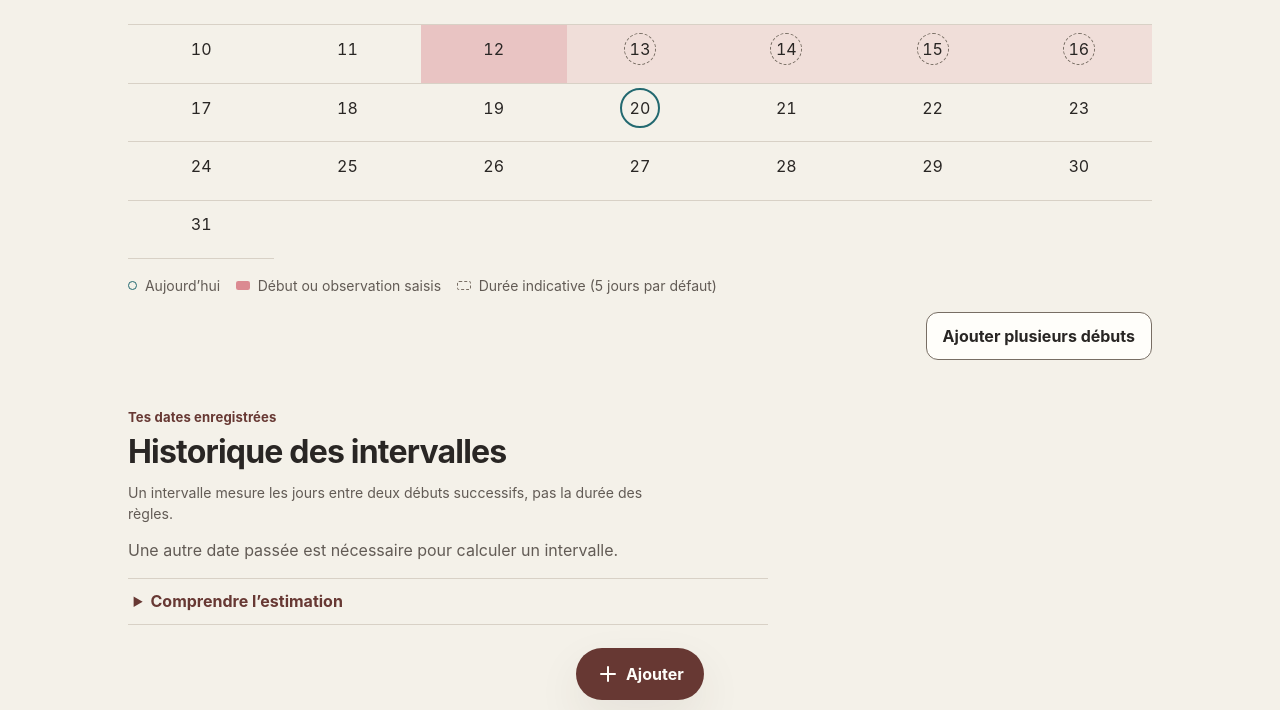
Test case: PeriodPeriods app › selects several distinct calendar dates and saves them as one batch
(page scrolled)
Click the button "Ajouter plusieurs débuts" at coordinates (1039, 336), box top-left (926, 312), bottom-right (1152, 360)
(page scrolled)
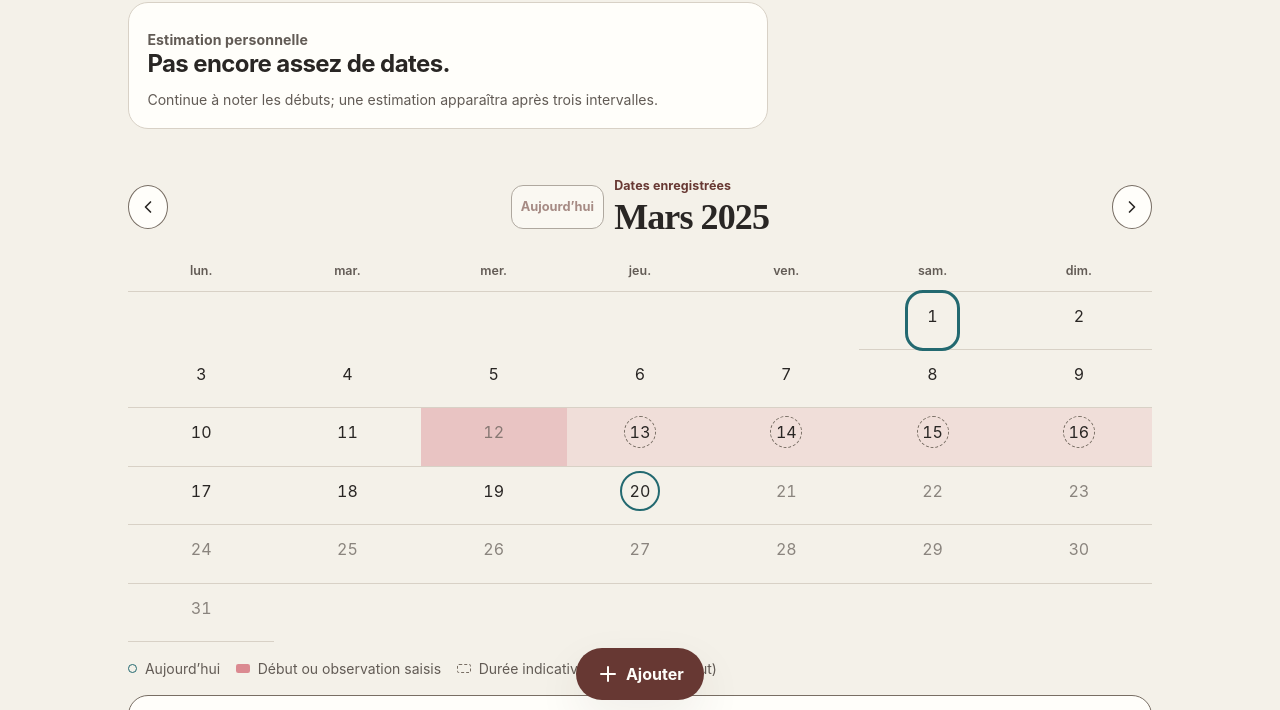
Check: the button named "21 mars 2025, date future, non sélectionnable" is disabled, box top-left (765, 471), bottom-right (808, 520)
Check: the button named "12 mars 2025, début déjà enregistré" is disabled, box top-left (472, 412), bottom-right (515, 462)
Click the button named "13 mars 2025" at coordinates (640, 437), box top-left (618, 412), bottom-right (662, 462)
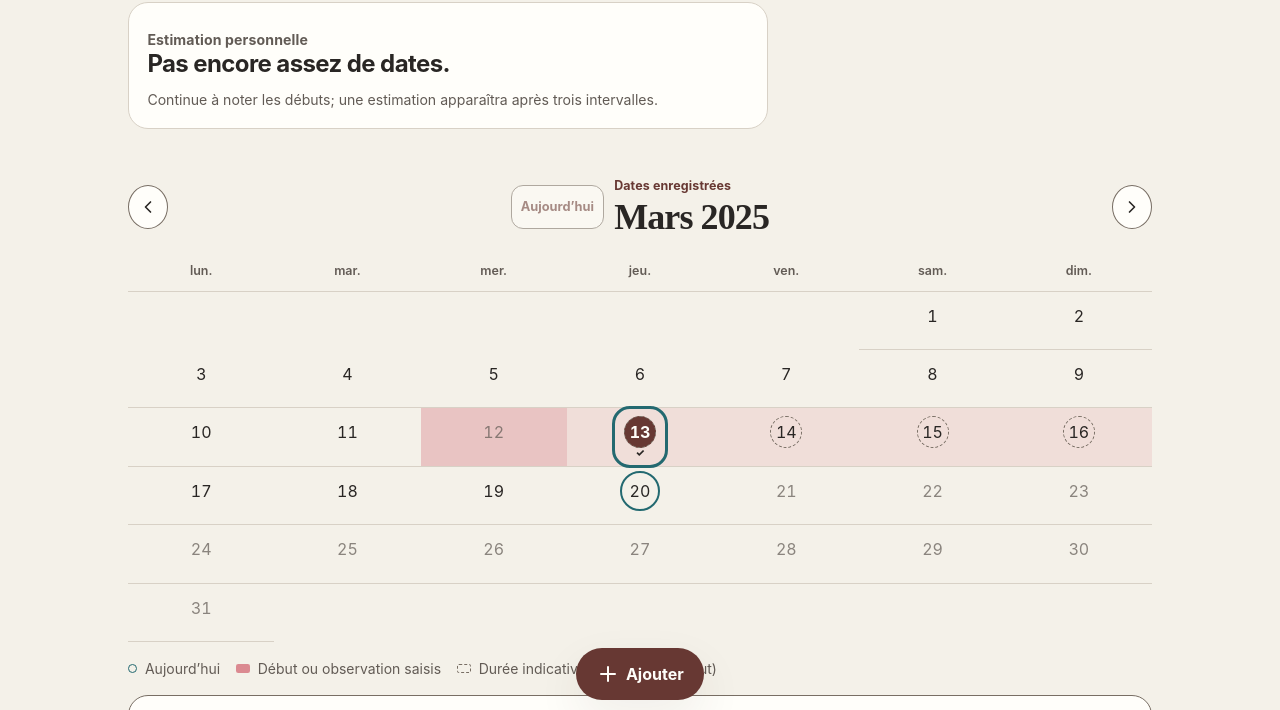
Click the button named "16 mars 2025" at coordinates (1079, 437), box top-left (1057, 412), bottom-right (1100, 462)
(page scrolled)
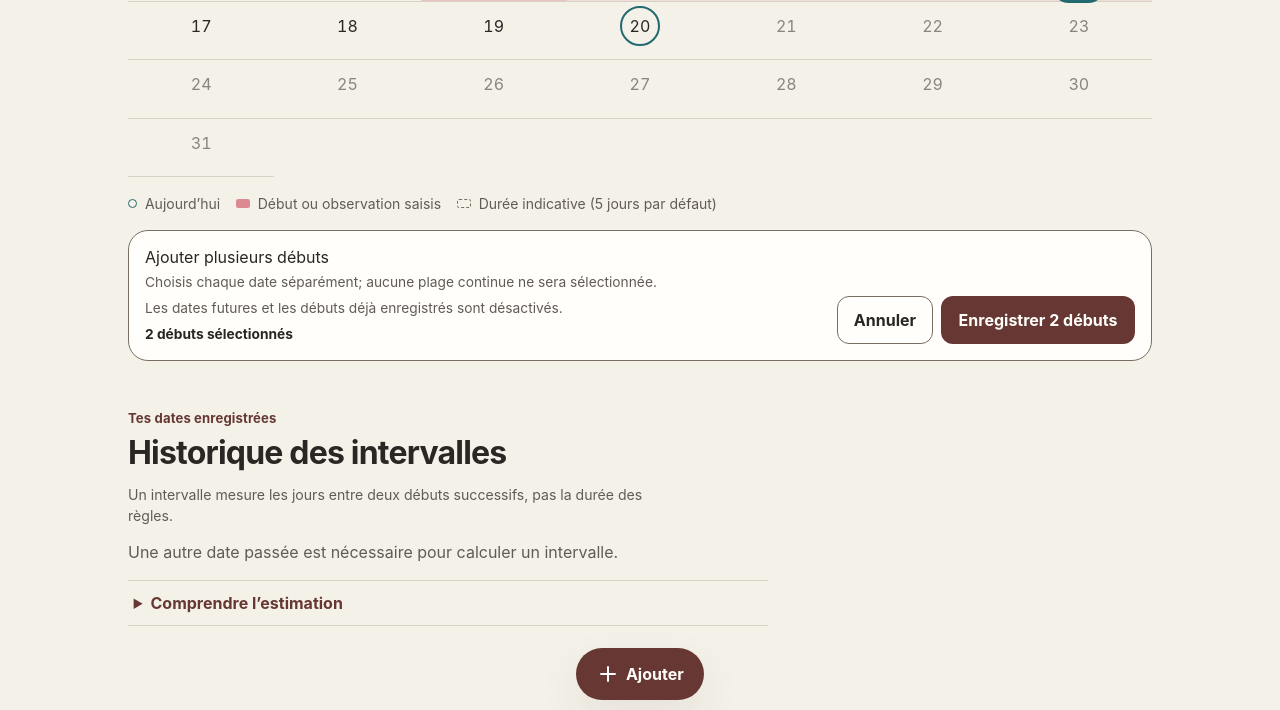
Check: the button "Enregistrer 2 débuts" is enabled
Click the button "Enregistrer 2 débuts" at coordinates (1038, 320), box top-left (941, 296), bottom-right (1135, 344)
(page scrolled)
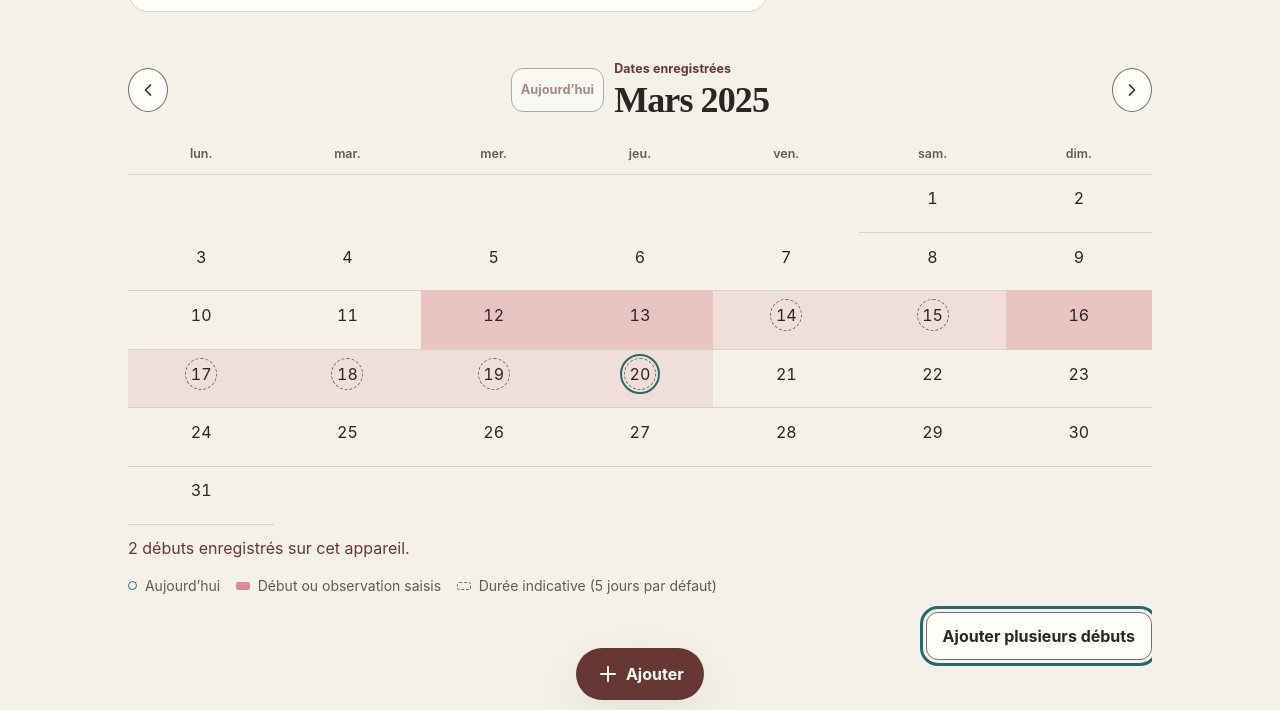
Check: the button named "Modifier la période du 16 mars 2025 (débutée le 16 mars 2025)" is shown, box top-left (1057, 295), bottom-right (1100, 345)
